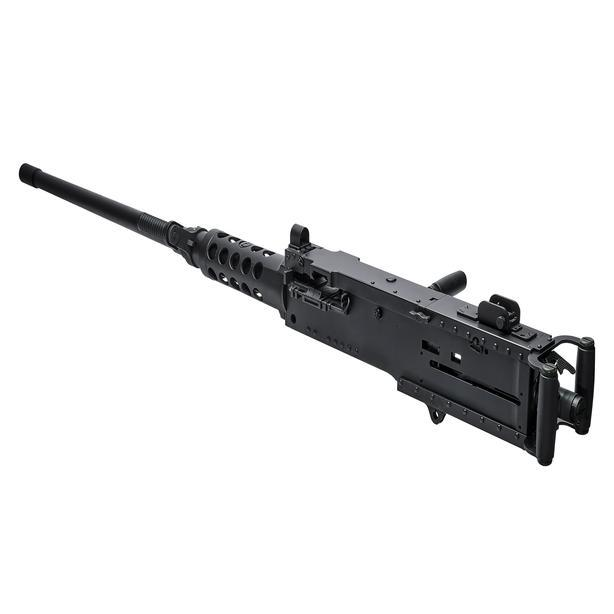Firearm: (10, 143, 603, 471)
